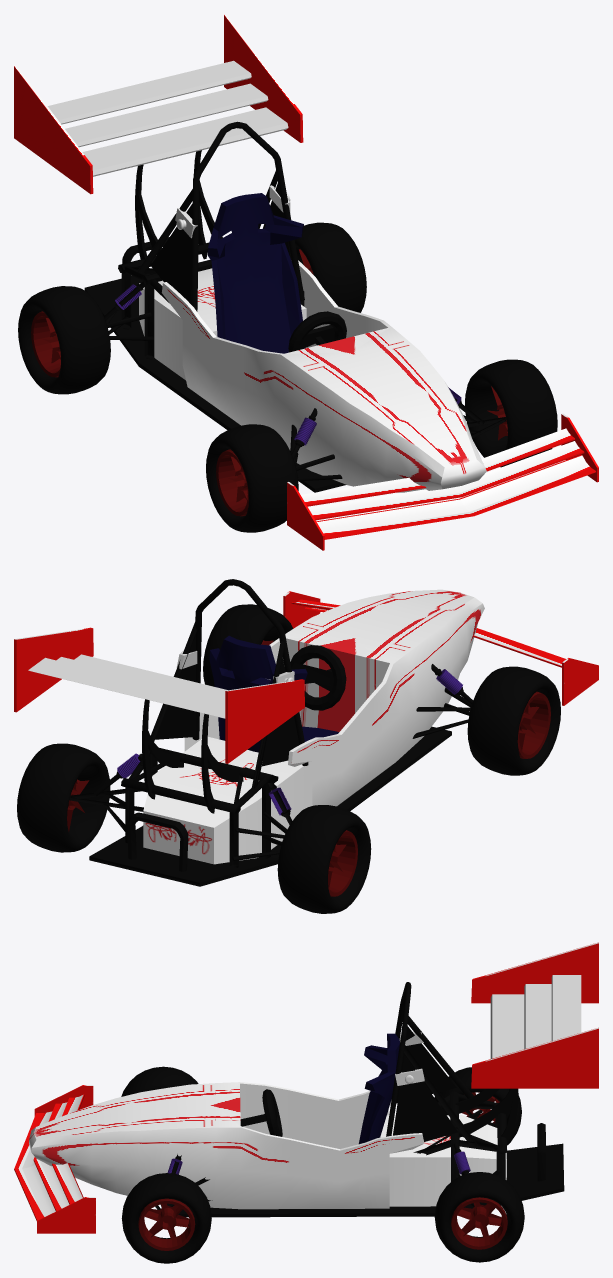
The model's file is formula-student-car.fbx.
The picture shows the model from 3 angles, top to bottom: view 1: azimuth 30°, elevation 25°; view 2: azimuth 150°, elevation 25°; view 3: azimuth 270°, elevation 25°; orthographic projection. The views are drawn at different scales.
Parts seen in each view (by area): view 1: Kabuk, On Ruzgarlik, Cube, Koltuk, Cube.001, Sol on teker.001, Sol on teker.004, Sol on teker.002, Demir, Sol on teker.003, Alt Govde, Motor (+6 smaller); view 2: Kabuk, Motor, Demir, Sol on teker.003, Cube.001, Sol on teker.001, Sol on teker.002, Alt Govde, Cube, Koltuk, On Ruzgarlik, Sol on teker.004 (+8 smaller); view 3: Kabuk, Cube.001, On Ruzgarlik, Cube, Motor, Alt Govde, Sol on teker.003, Sol on teker.004, Demir, Ucgen Bayrak, Koltuk, Sag on jant.002 (+7 smaller).
Boxes of the visible parts, x1,y1,x2,y2 form: Kabuk: (161,260,486,492); On Ruzgarlik: (287,413,598,550); Cube: (47,60,288,176); Koltuk: (207,193,305,353); Cube.001: (14,14,303,194); Sol on teker.001: (18,286,110,394); Sol on teker.004: (465,359,557,467); Sol on teker.002: (206,424,298,532); Demir: (104,170,506,481); Sol on teker.003: (294,222,366,312); Alt Govde: (84,274,346,492); Motor: (139,268,306,380); Kabuk: (184,589,484,806); Motor: (143,737,308,864); Demir: (69,622,473,867); Sol on teker.003: (17,743,110,852); Cube.001: (14,627,304,763); Sol on teker.001: (277,805,371,913); Sol on teker.002: (467,666,560,775); Alt Govde: (89,726,451,886); Cube: (28,654,227,718); Koltuk: (209,635,338,752); On Ruzgarlik: (283,591,598,705); Sol on teker.004: (203,604,293,686); Kabuk: (29,1082,424,1209); Cube.001: (471,942,598,1088); On Ruzgarlik: (14,1085,95,1233); Cube: (490,975,581,1058); Motor: (380,1115,506,1206); Alt Govde: (167,1143,564,1217); Sol on teker.003: (434,1172,524,1262); Sol on teker.004: (121,1173,211,1263); Demir: (155,1015,507,1209); Ucgen Bayrak: (393,1026,457,1141); Koltuk: (358,1033,399,1144); Sag on jant.002: (451,1197,507,1249).
Bounding box in the file's own units: 523 × 429 × 1028.
